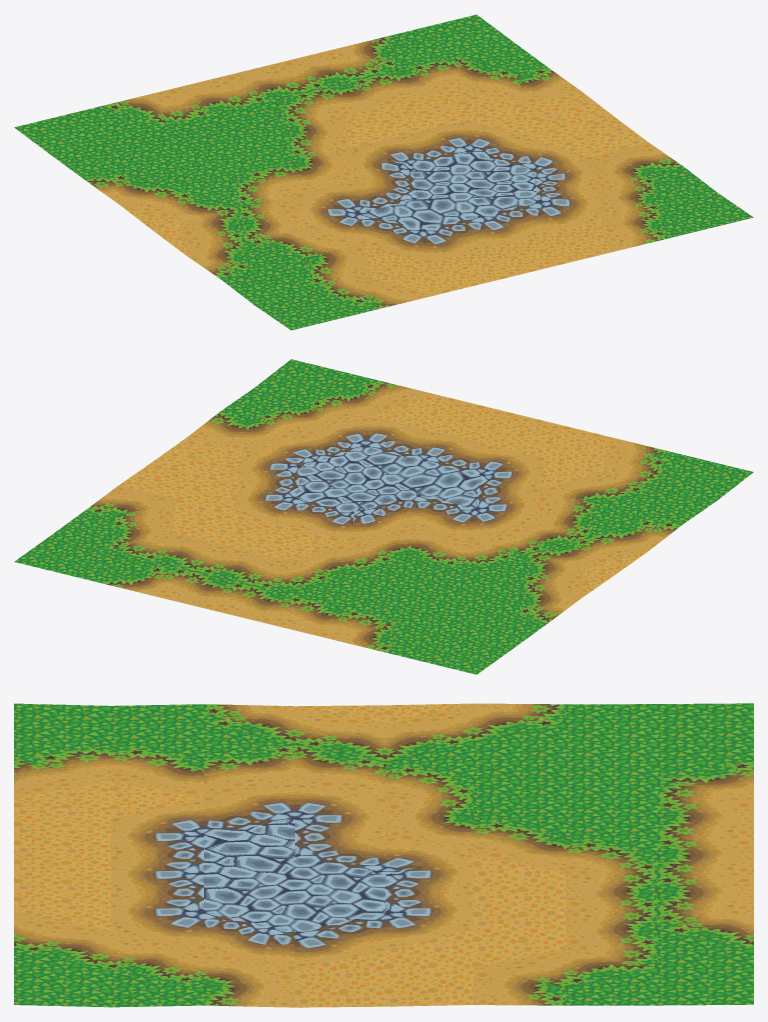
File: c_grd_f_s_2.001.glb
3 renders of one model, top to bottom at view 1: azimuth 30°, elevation 25°; view 2: azimuth 150°, elevation 25°; view 3: azimuth 270°, elevation 25°, orthographic. The views are drawn at different scales.
Parts seen in each view (by area): view 1: c_grd_f_s_2.001; view 2: c_grd_f_s_2.001; view 3: c_grd_f_s_2.001.
Part boxes in pixels (x1,y1,x2,y2): c_grd_f_s_2.001: [14, 14, 753, 330]; c_grd_f_s_2.001: [14, 359, 753, 674]; c_grd_f_s_2.001: [14, 703, 753, 1007].
Bounding box in the file's own units: 32 × 0.1406 × 33.2.
5 materials, 5 textured.
